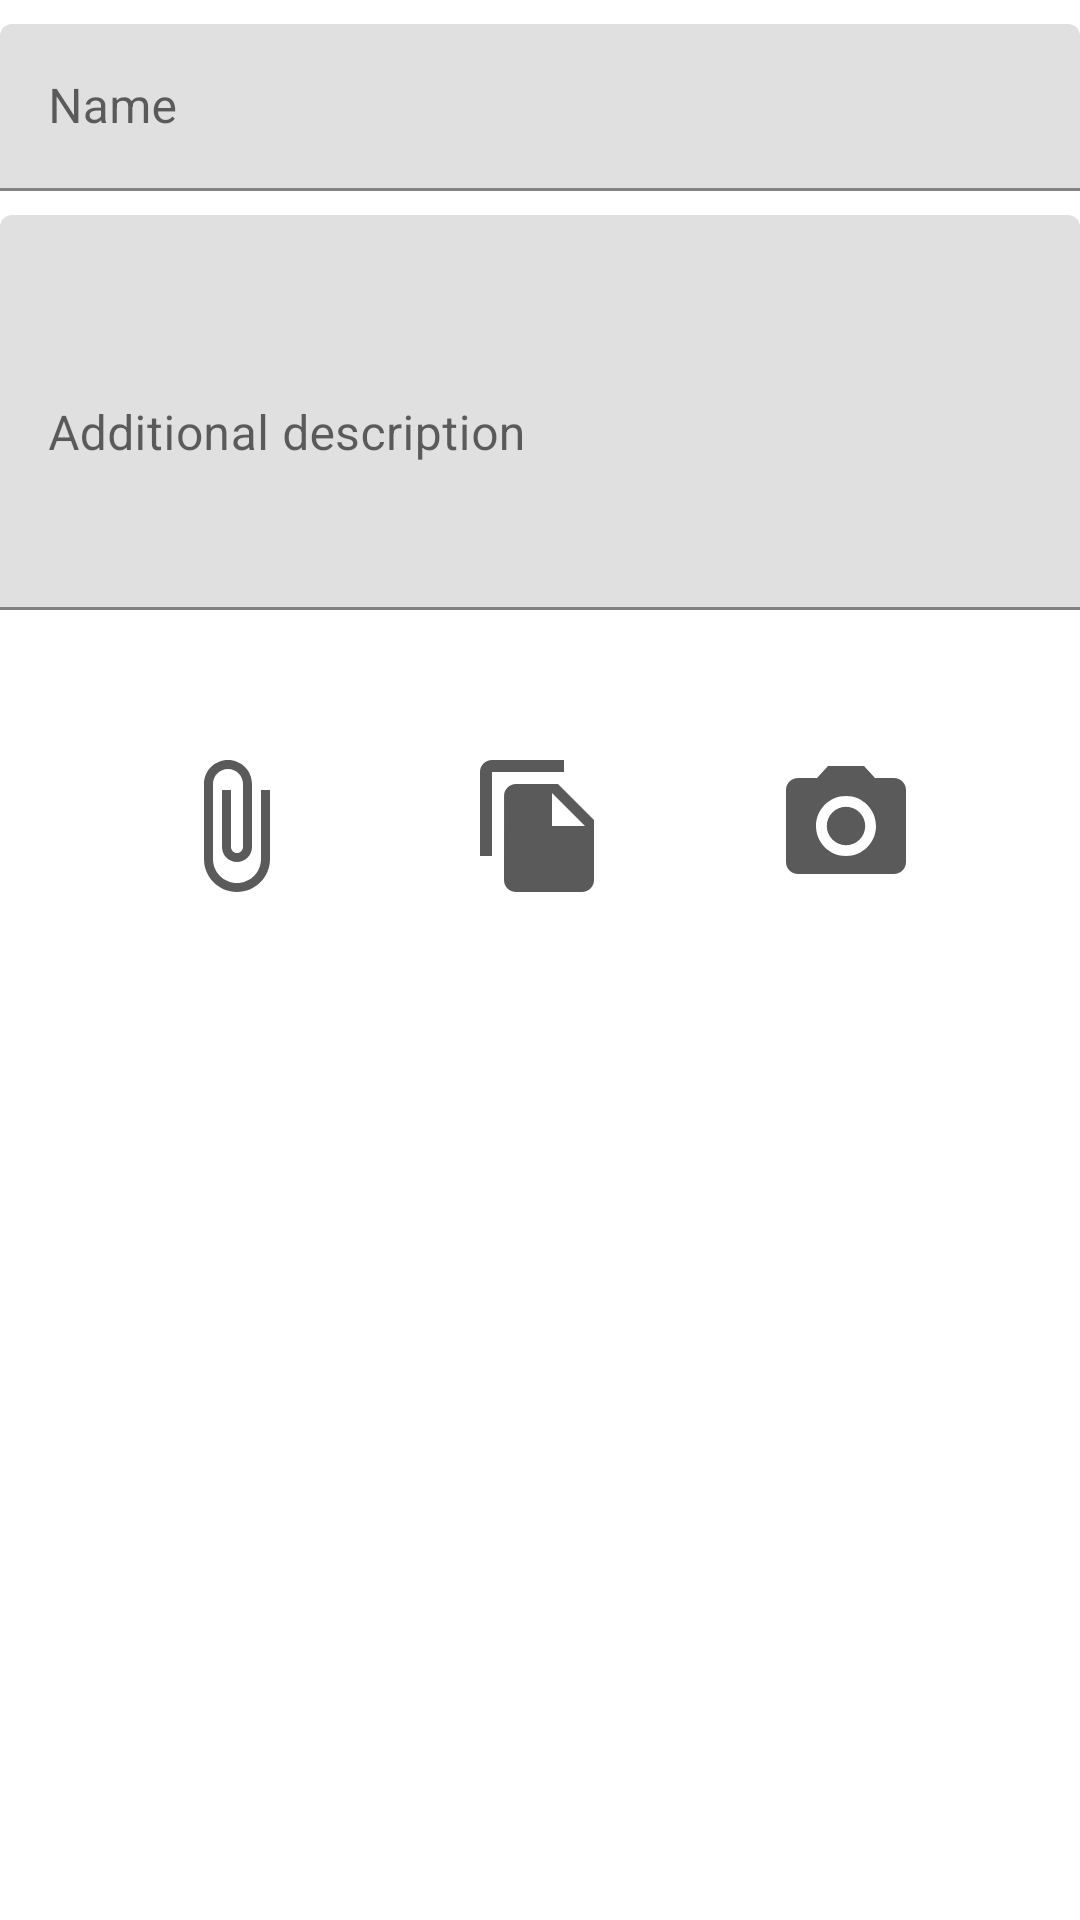

Where to tap for icons on this 1080 x 1920 app screen, as (x=x, y=y):
attach file: (x=237, y=826)
Take photo: (x=846, y=820)
